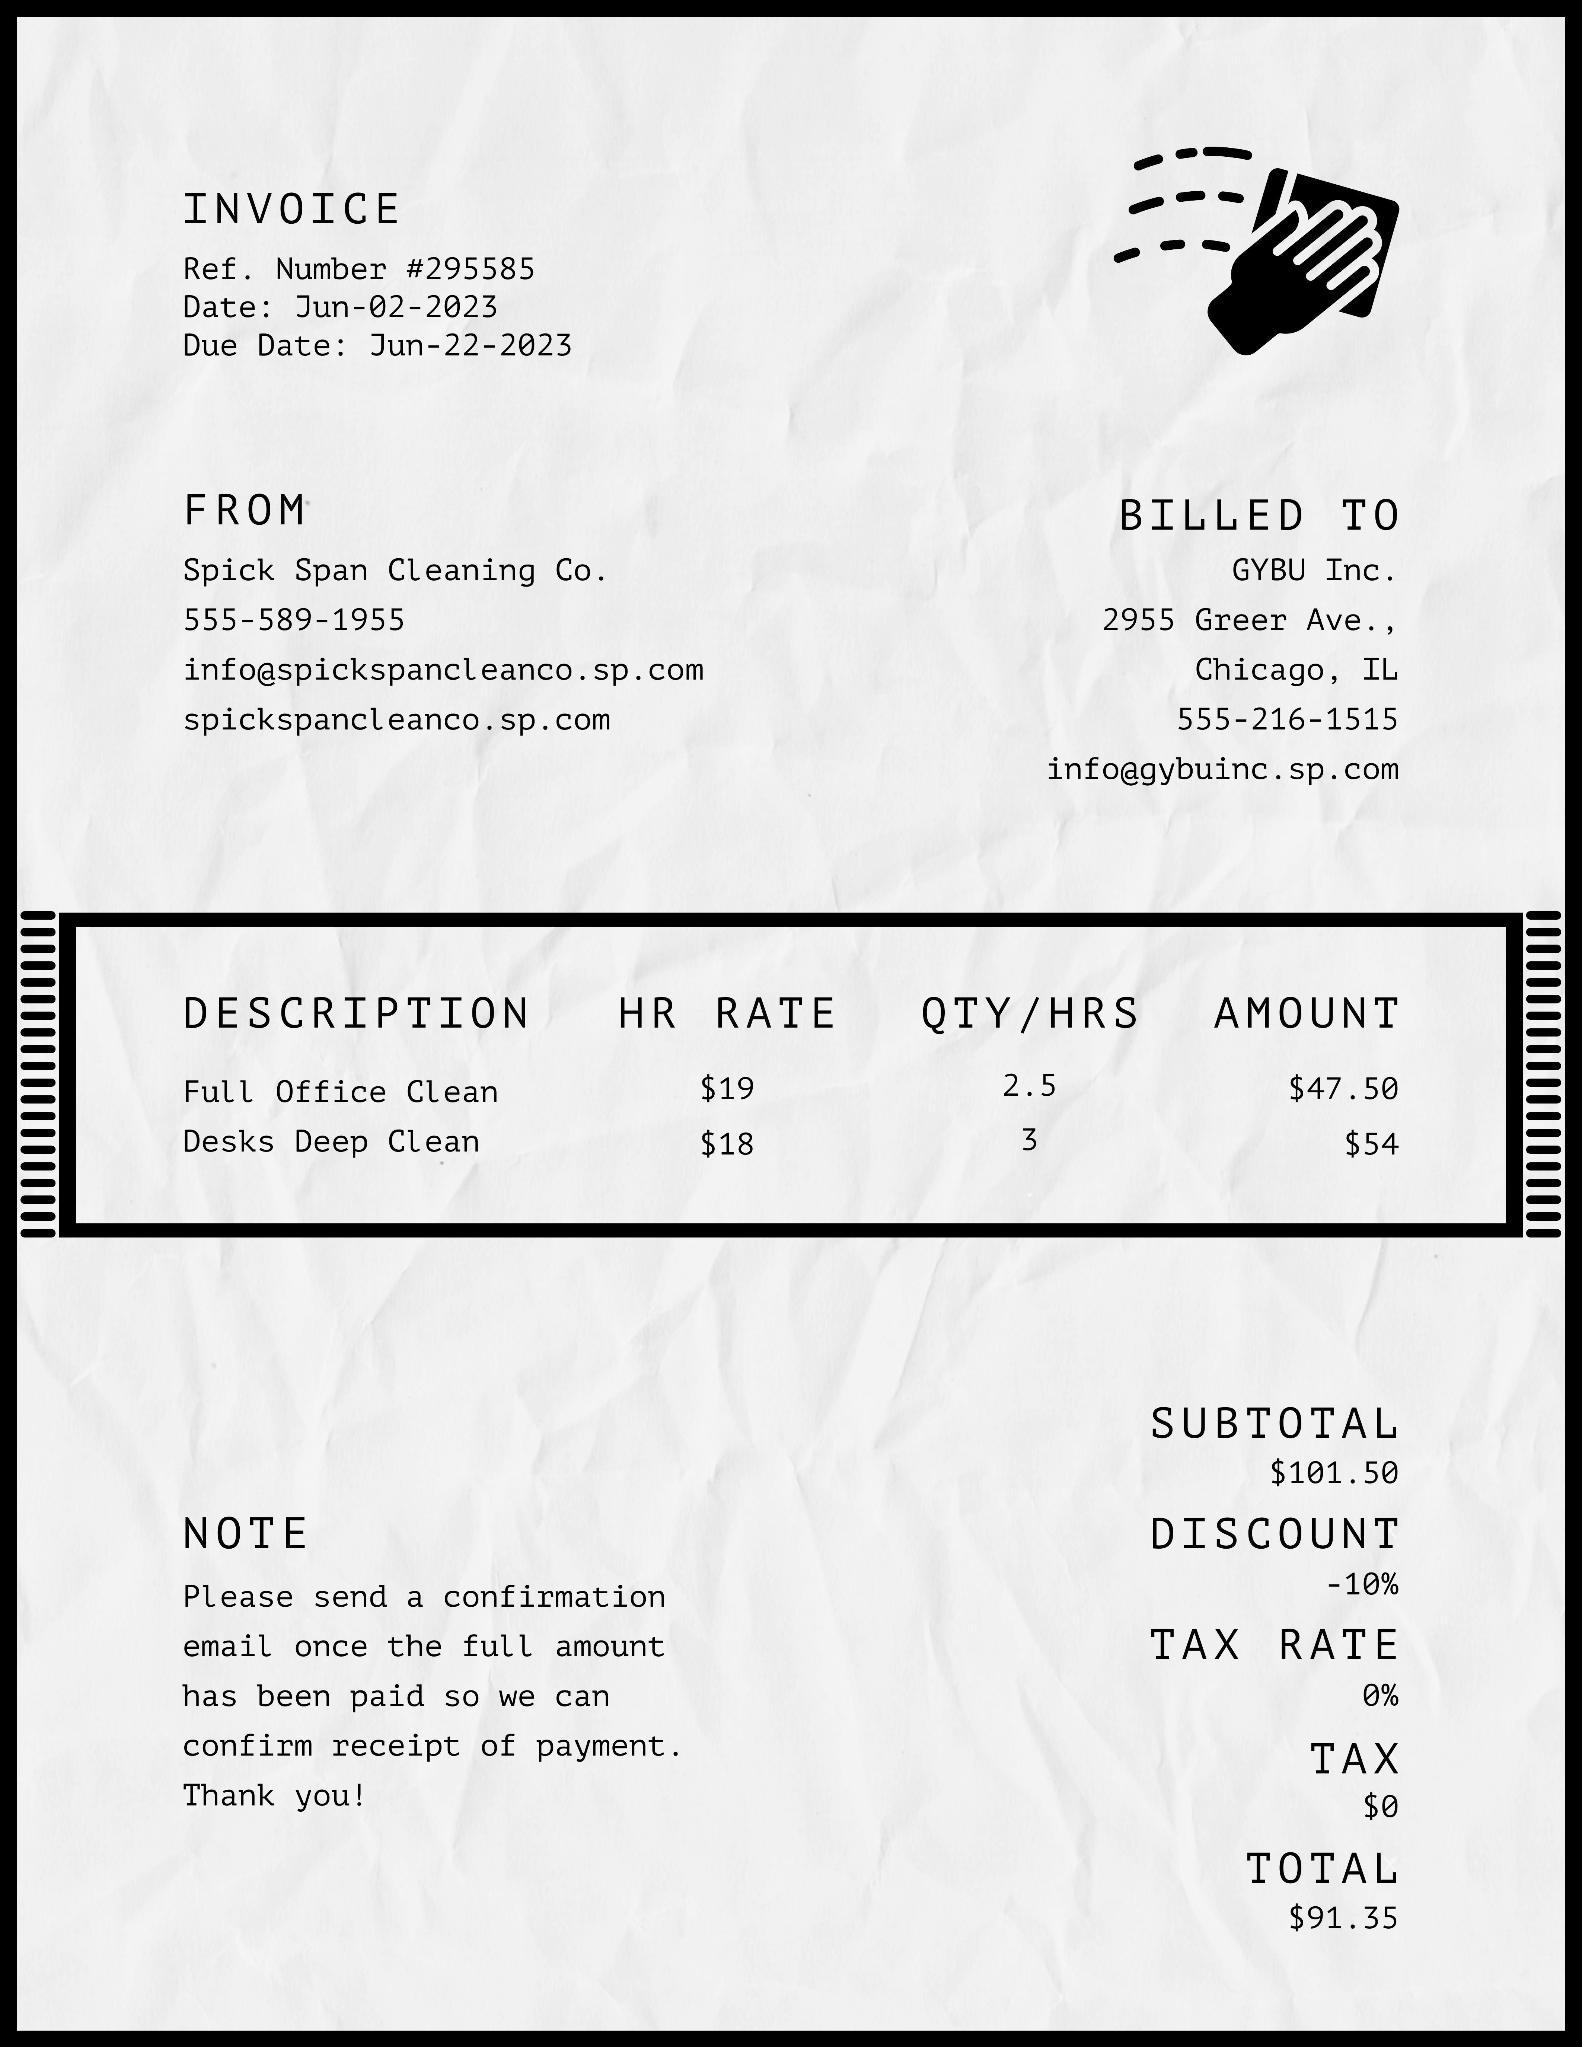ROI: (80, 919, 1525, 1238), (1093, 1367, 1454, 1977), (120, 469, 798, 764), (158, 1490, 701, 1844), (1019, 470, 1454, 826), (173, 158, 625, 389)
